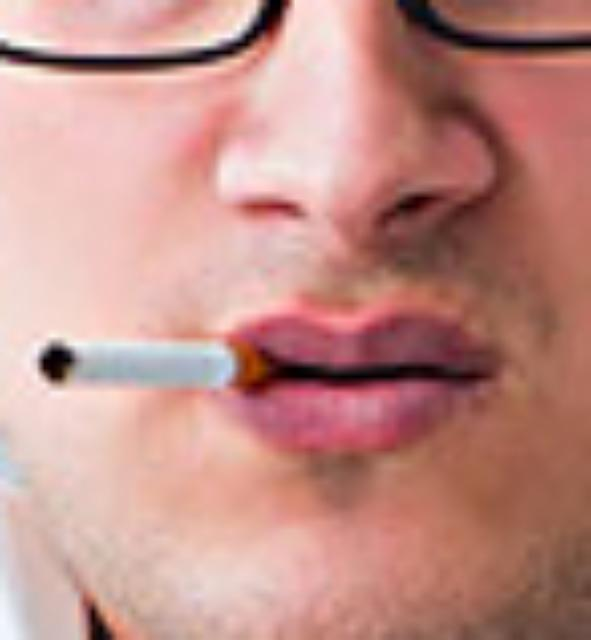Cigarette: (25, 324, 259, 388)
